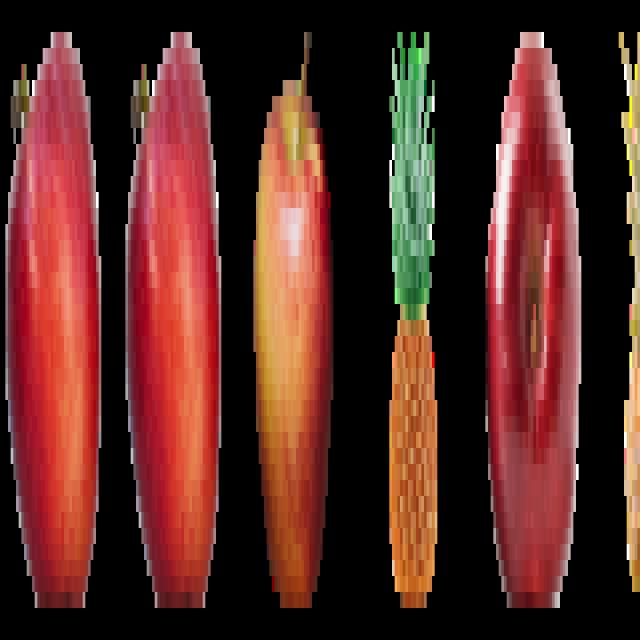apple: (119, 13, 223, 630), (2, 13, 103, 634), (483, 16, 585, 628), (248, 12, 338, 626)
pineapples: (378, 13, 446, 634)
